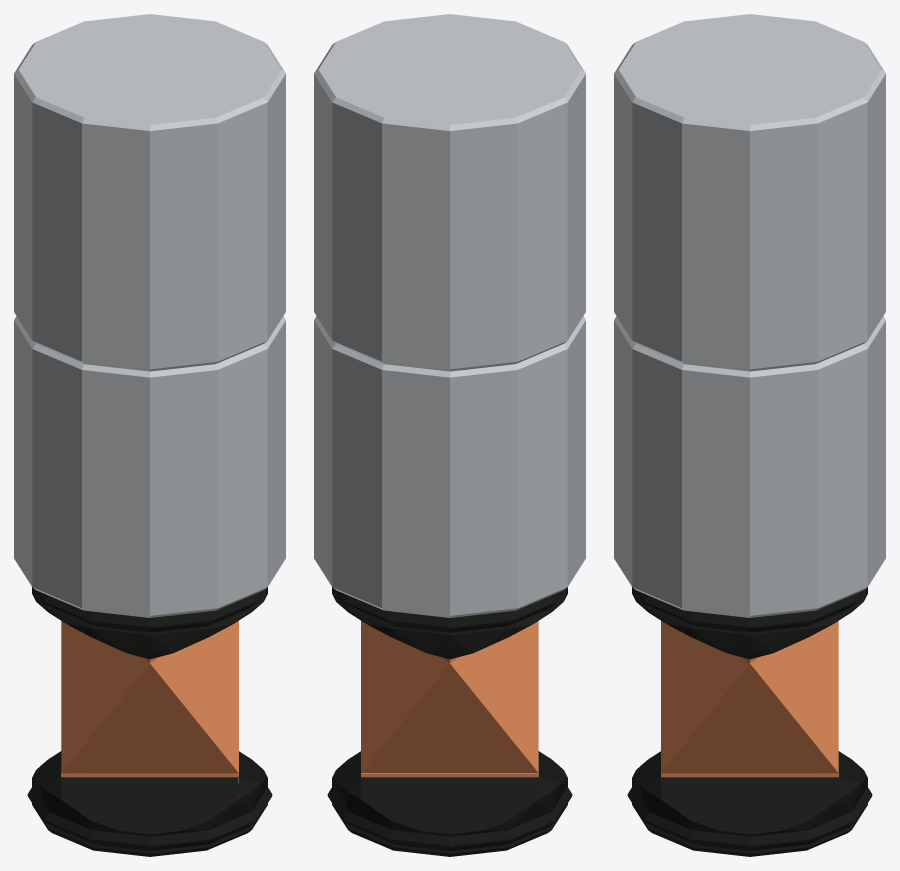
File: prism.dae
The picture shows the model from 3 angles, left to right: view 1: azimuth 30°, elevation 25°; view 2: azimuth 150°, elevation 25°; view 3: azimuth 270°, elevation 25°; orthographic projection.
Parts seen in each view (by area): view 1: 090125-Prism_simplified-in_CPT7_CSYS; view 2: 090125-Prism_simplified-in_CPT7_CSYS; view 3: 090125-Prism_simplified-in_CPT7_CSYS.
Part boxes in pixels (left/top/right/bottom): 090125-Prism_simplified-in_CPT7_CSYS: left=14, top=14, right=285, bottom=856; 090125-Prism_simplified-in_CPT7_CSYS: left=314, top=14, right=585, bottom=856; 090125-Prism_simplified-in_CPT7_CSYS: left=614, top=14, right=885, bottom=856.
Size of the model in its own units: 0.03 by 0.03 by 0.09.
